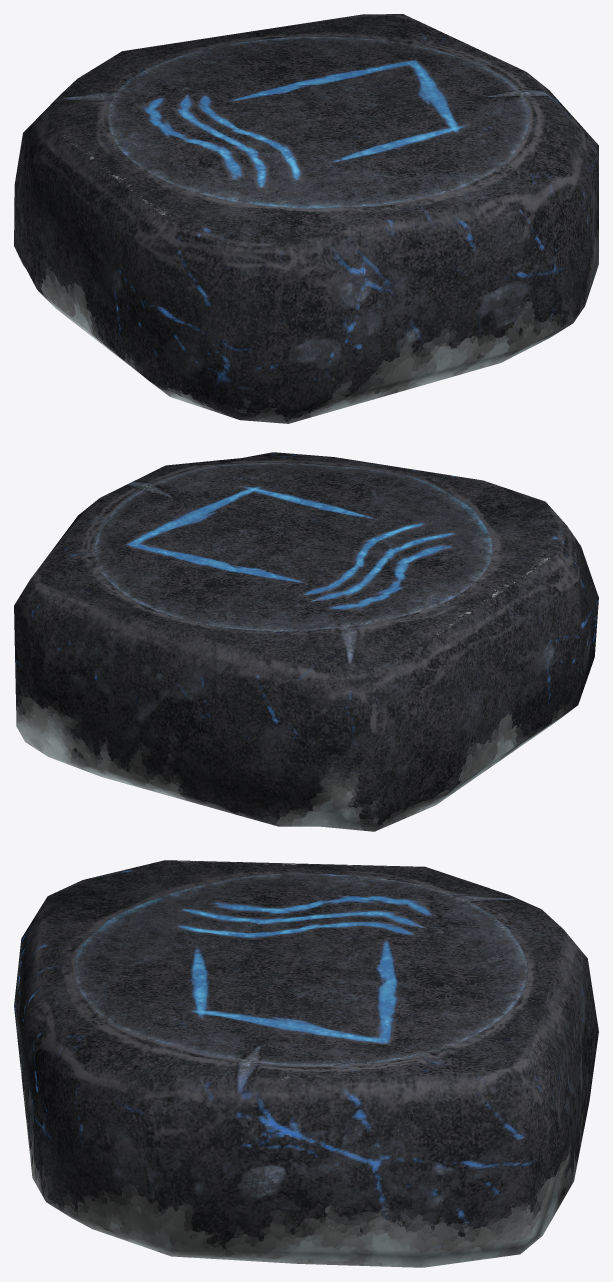
Rendered from blue runestone.glb.
The picture shows the model from 3 angles, top to bottom: view 1: azimuth 30°, elevation 25°; view 2: azimuth 150°, elevation 25°; view 3: azimuth 270°, elevation 25°; orthographic projection. The views are drawn at different scales.
Parts seen in each view (by area): view 1: Object_26; view 2: Object_26; view 3: Object_26.
Part boxes in pixels (x1=…): Object_26: x1=14, y1=14, x2=598, y2=423; Object_26: x1=14, y1=452, x2=598, y2=831; Object_26: x1=14, y1=860, x2=598, y2=1267.
Bounding box in the file's own units: 0.1106 × 0.0417 × 0.1113.
1 material, 1 textured.
